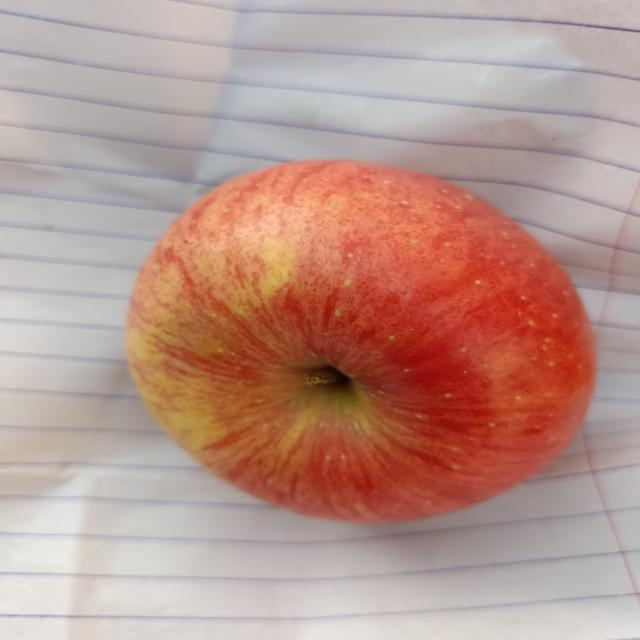Fresh Apple: (142, 177, 570, 513)
